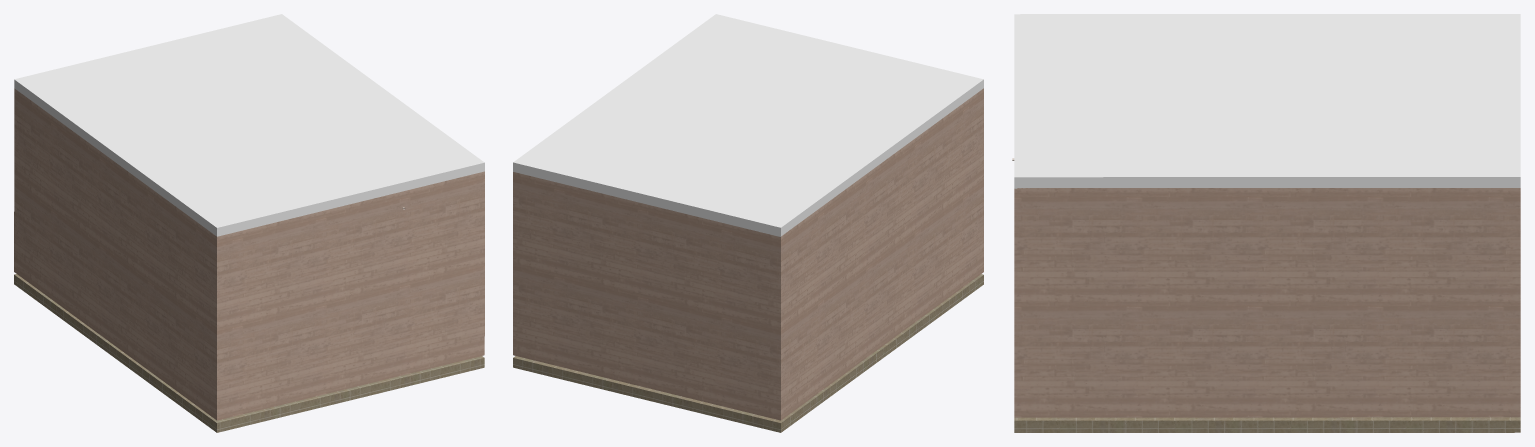
Rendered from FloorPlan415_physics.fbx.
3 views of the same model, side by side, from view 1: azimuth 30°, elevation 25°; view 2: azimuth 150°, elevation 25°; view 3: azimuth 270°, elevation 25° (orthographic). The views are drawn at different scales.
Parts seen in each view (by area): view 1: FP415:Walls, FP415:Ceiling, FP415:Floor; view 2: FP415:Walls, FP415:Ceiling, FP415:Floor; view 3: FP415:Walls, FP415:Ceiling, FP415:Floor.
Part boxes in pixels (left/top/right/bottom): FP415:Walls: left=14, top=88, right=484, bottom=420; FP415:Ceiling: left=14, top=14, right=484, bottom=236; FP415:Floor: left=14, top=274, right=484, bottom=432; FP415:Walls: left=513, top=88, right=983, bottom=420; FP415:Ceiling: left=513, top=14, right=983, bottom=236; FP415:Floor: left=513, top=274, right=983, bottom=432; FP415:Walls: left=1014, top=188, right=1520, bottom=417; FP415:Ceiling: left=1014, top=14, right=1520, bottom=188; FP415:Floor: left=1014, top=417, right=1520, bottom=432.
Size of the model in its own units: 320 by 234 by 422.
